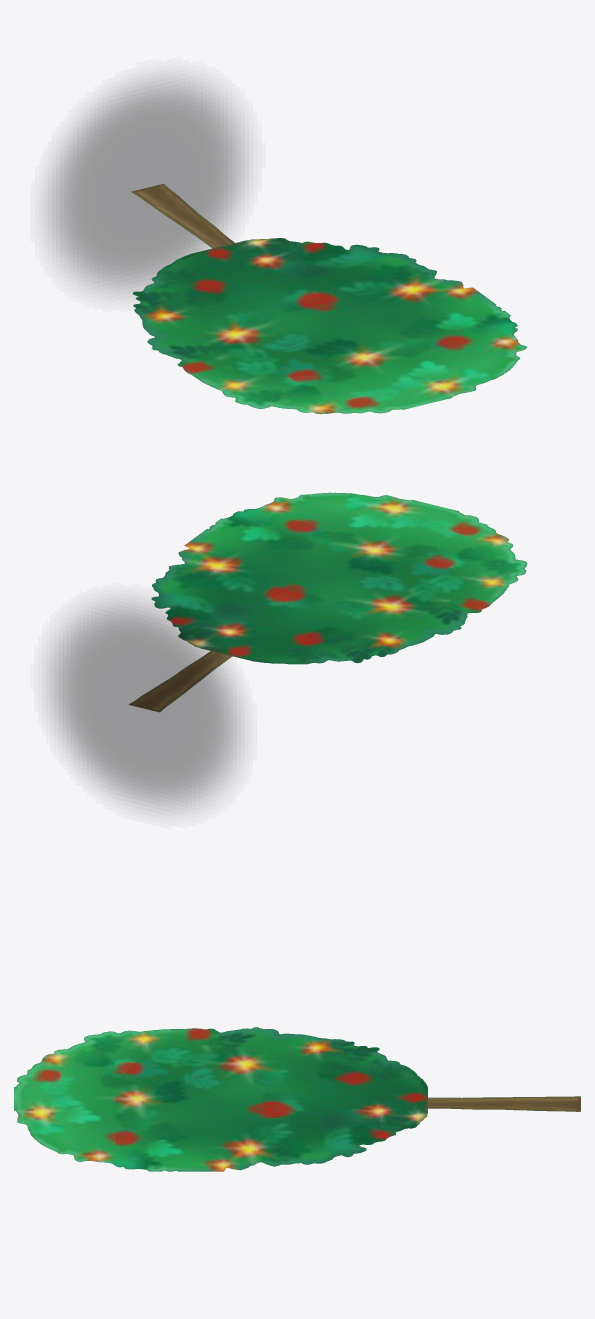
Rendered from prop_tree_small_ur.glb.
3 renders of one model, top to bottom at view 1: azimuth 30°, elevation 25°; view 2: azimuth 150°, elevation 25°; view 3: azimuth 270°, elevation 25°, orthographic. The views are drawn at different scales.
Parts seen in each view (by area): view 1: p263_6__billboard, shadow_small_nobox_ur; view 2: p263_6__billboard, shadow_small_nobox_ur; view 3: p263_6__billboard.
Boxes of the visible parts, box(x1,y1,x2,y2) form: p263_6__billboard: box(131, 184, 527, 414); shadow_small_nobox_ur: box(47, 76, 244, 294); p263_6__billboard: box(129, 492, 527, 712); shadow_small_nobox_ur: box(50, 601, 240, 810); p263_6__billboard: box(14, 1027, 580, 1171).
Bounding box in the file's own units: 13.93 × 12.32 × 23.16.
3 materials, 3 textured.
